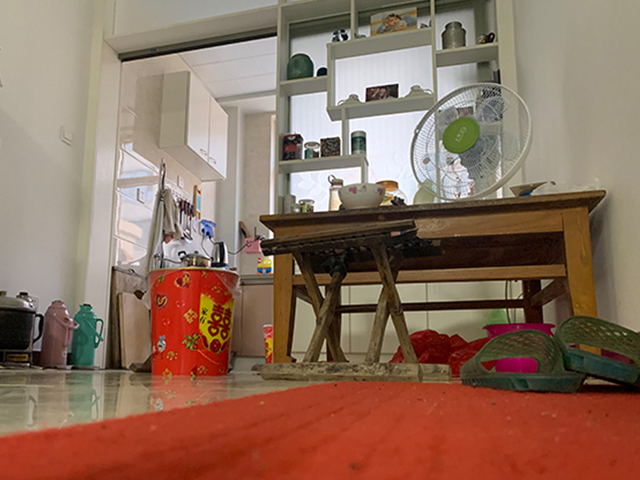carpet: (1, 380, 640, 480)
slippers: (457, 325, 571, 391), (559, 317, 640, 386)
stool: (257, 219, 453, 384)
table: (258, 190, 609, 365)
trashcan: (148, 267, 240, 379)
